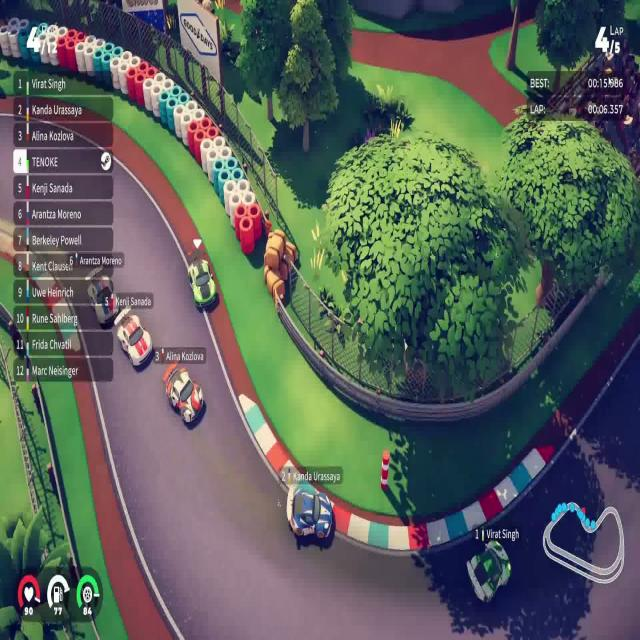car: (466, 538, 512, 605), (286, 481, 333, 544), (162, 361, 204, 425), (114, 308, 152, 369), (86, 272, 120, 328), (187, 256, 216, 310)
